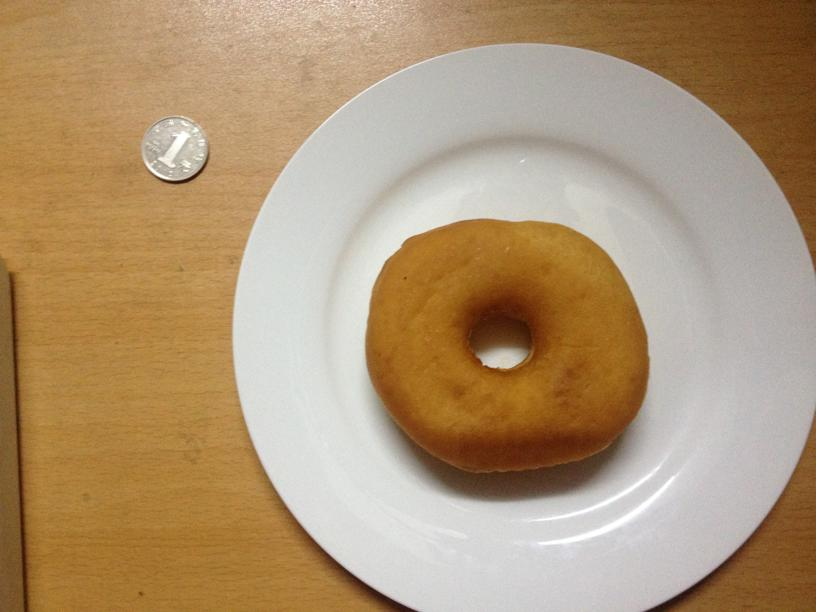coin: (138, 114, 208, 182)
doughnut: (363, 221, 649, 465)
